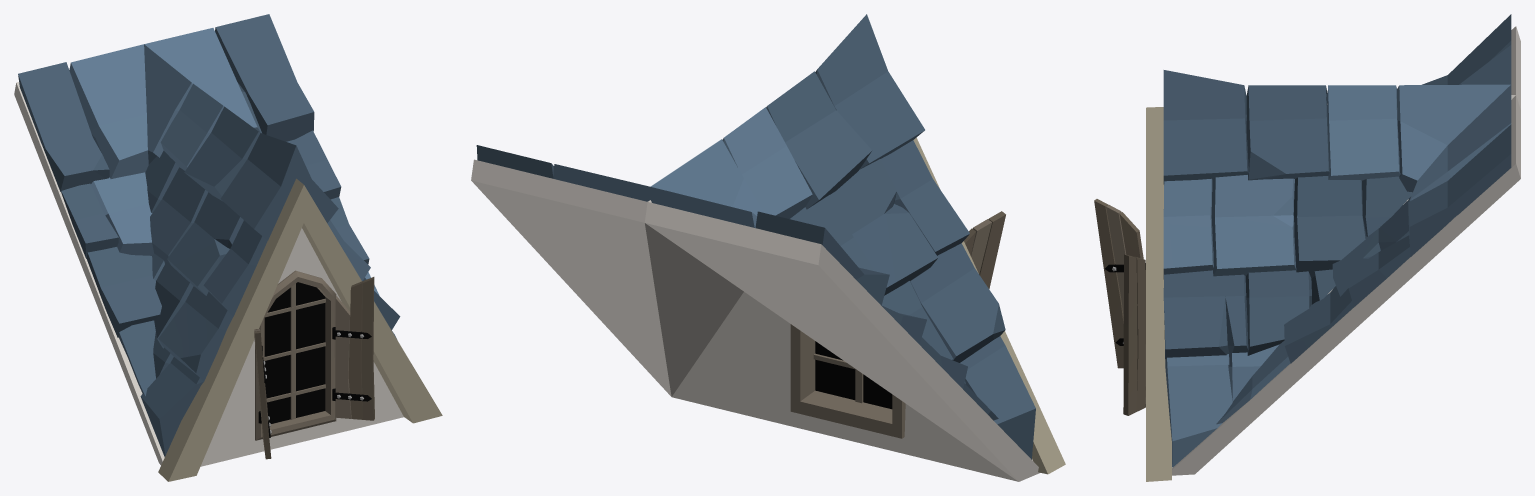
Rendered from ROOF_SKYLIGHT_1.fbx.
3 views of the same model, side by side, from view 1: azimuth 30°, elevation 25°; view 2: azimuth 150°, elevation 25°; view 3: azimuth 270°, elevation 25° (orthographic). The views are drawn at different scales.
Visible parts, largest first — view 1: ROOF_SKYLIGHT_1; view 2: ROOF_SKYLIGHT_1; view 3: ROOF_SKYLIGHT_1.
Boxes of the visible parts, x1,y1,x2,y2 form: ROOF_SKYLIGHT_1: (14, 14, 442, 481); ROOF_SKYLIGHT_1: (471, 14, 1065, 481); ROOF_SKYLIGHT_1: (1094, 14, 1520, 481).
Size of the model in its own units: 109 by 114 by 131.
